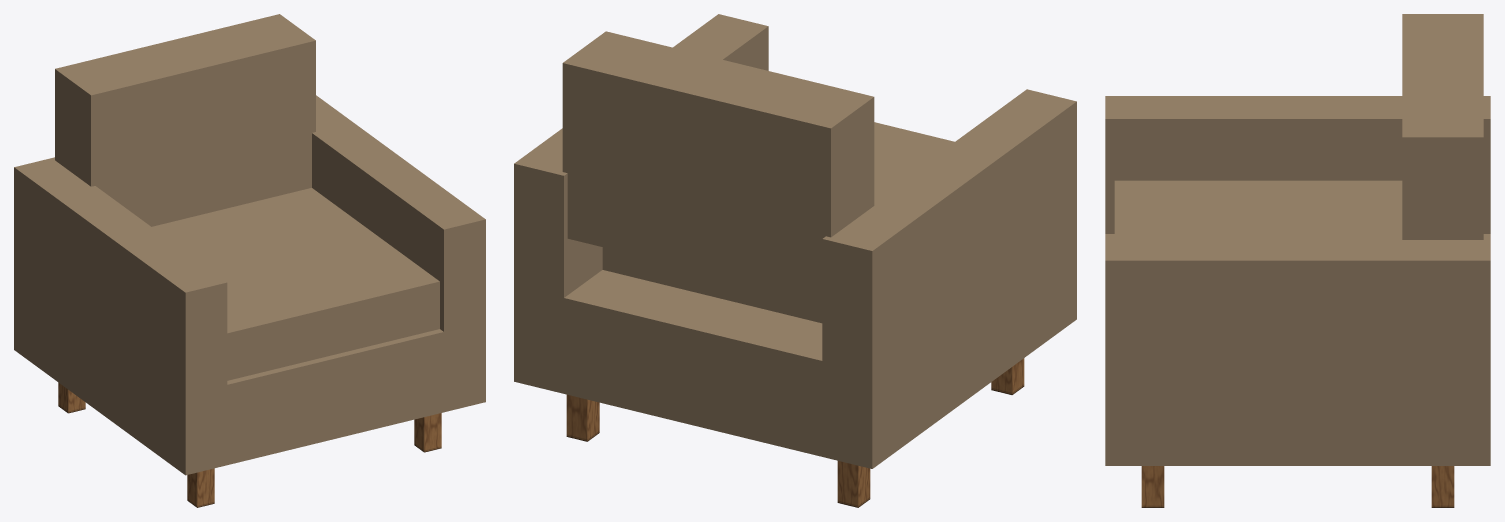
Rendered from Fotel_modern.obj.
The picture shows the model from 3 angles, left to right: view 1: azimuth 30°, elevation 25°; view 2: azimuth 150°, elevation 25°; view 3: azimuth 270°, elevation 25°; orthographic projection. The views are drawn at different scales.
Size of the model in its own units: 0.86 by 0.89 by 0.85.
2 materials, 1 textured.
